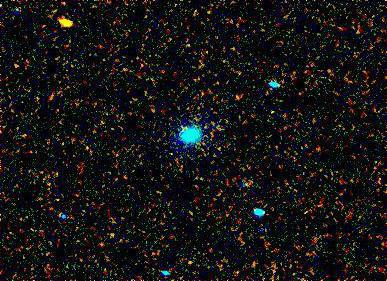star: (52, 4, 82, 34)
